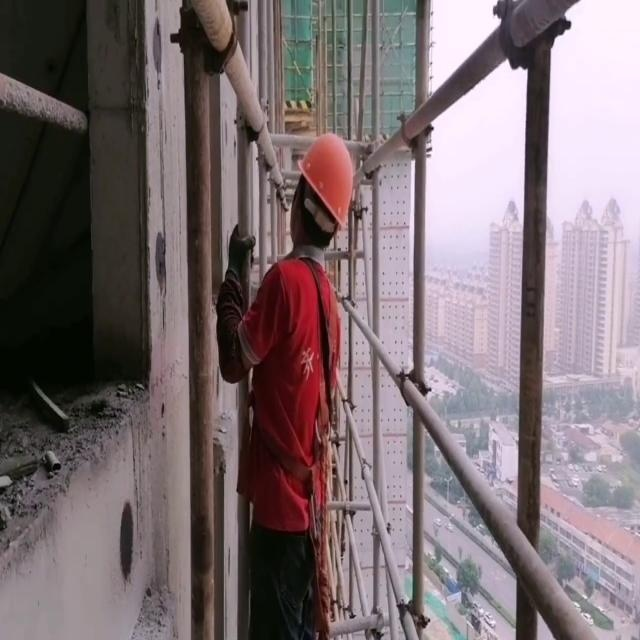Arnes_seguridad: (243, 243, 345, 509)
